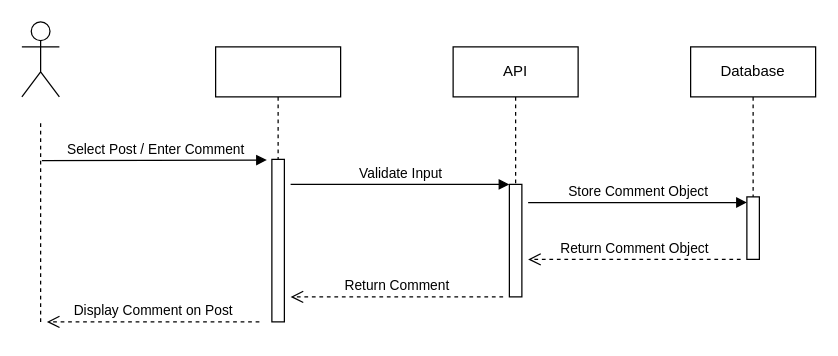
Image size: 838x356. Some labels were removed from this diagram. The shapes that lost their labels are listed below. From the top down, each one's centre as x and y in pixels, then its label:
the point at 40,59: User
the point at 277,184: UI
